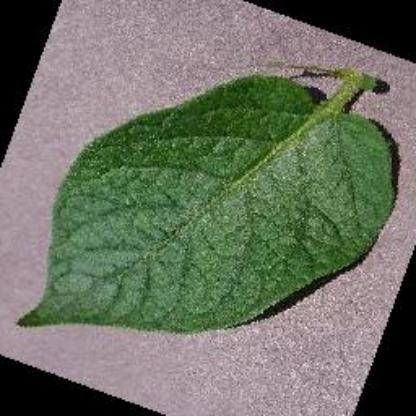Healthy-plant: (8, 64, 404, 342)
